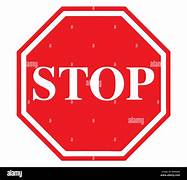stop: (16, 4, 171, 161)
